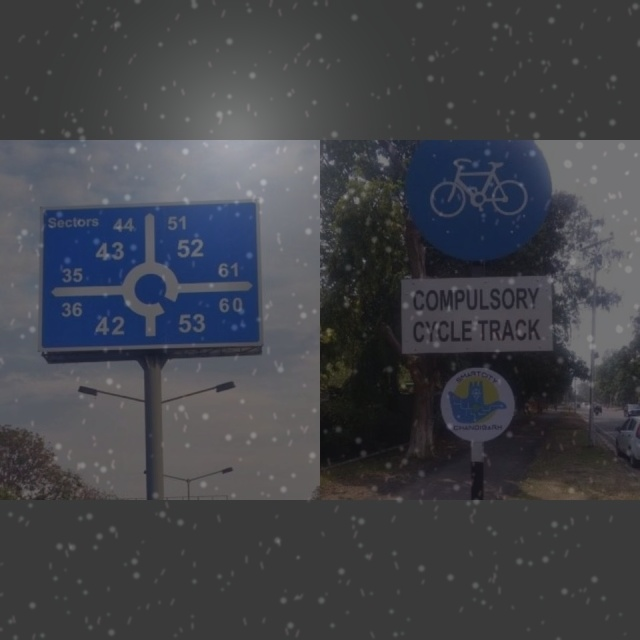Compulsory_Cycle_Track: (411, 140, 542, 261)
